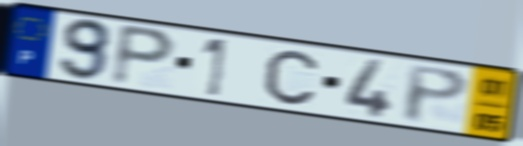1: (199, 36, 229, 98)
4: (342, 56, 396, 121)
9: (55, 16, 112, 83)
C: (262, 48, 320, 107)
P: (108, 21, 180, 89), (402, 62, 472, 126)
